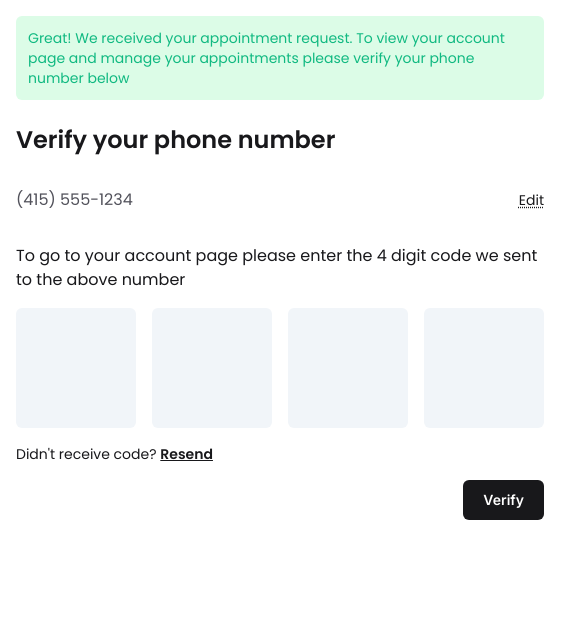
Test: VerifyPhoneNumber › Phone Number Editing › should show edit mode when Edit button clicked
Click the button "Edit": (531, 200) [519, 190, 544, 210]
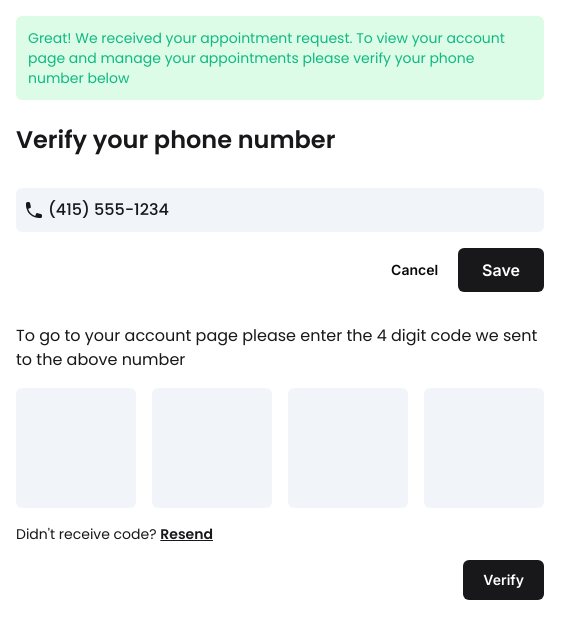
Now the field with placeholder "Enter your phone number" is shown, box [16, 188, 544, 232]
Now the button "Save" is shown, box [458, 248, 544, 292]
Now the button "Cancel" is shown, box [379, 248, 450, 292]
